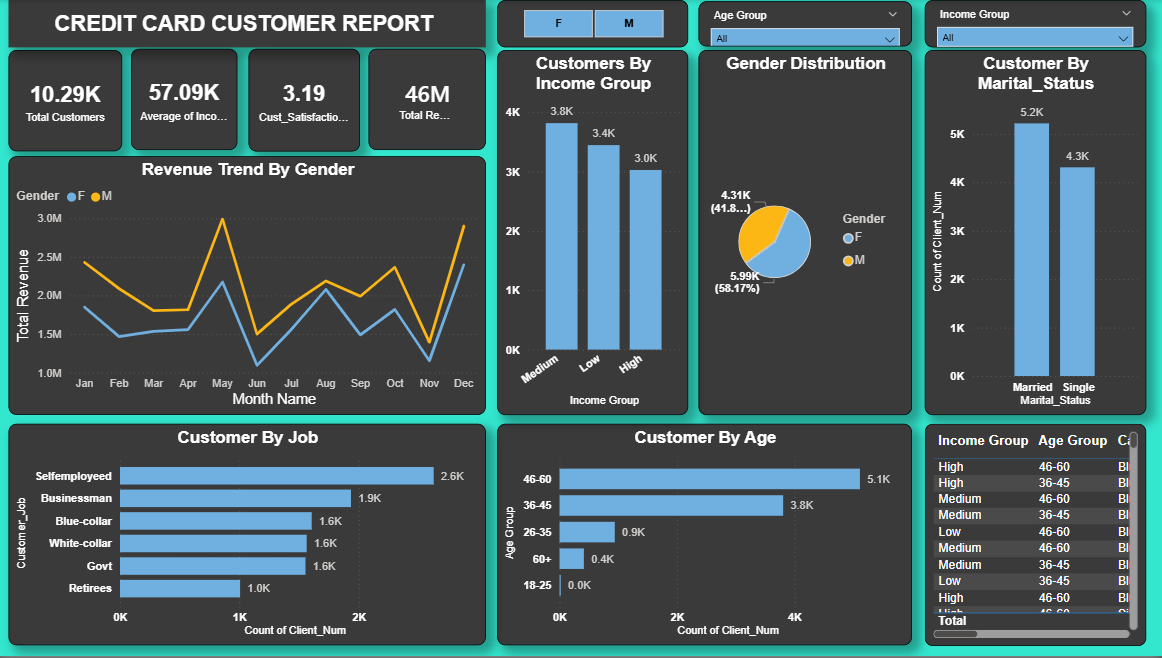

What the dashboard file says about the page in this screenshot:
{"tool":"powerbi","page":{"name":"customer report","canvas":[1280,720],"ordinal":0},"visuals":[{"type":"card","fields":{"Values":["CountNonNull(customer.Client_Num)"]},"box":[13.7,54.9,124.9,111.1],"z":0},{"type":"card","fields":{"Values":["Avg(customer.Income)"]},"box":[148.2,53.5,116.6,111.1],"z":1000},{"type":"card","fields":{"Values":["Avg(customer.Cust_Satisfaction_Score)"]},"box":[277.2,53.5,122.1,112.5],"z":2000},{"type":"slicer","fields":{"Values":["customer.Age Group"]},"box":[842.5,0,419.9,83.7],"z":3000},{"type":"slicer","fields":{"Values":["customer.Income Group"]},"box":[771.2,93.3,491.3,71.4],"z":4000},{"type":"pieChart","title":"Gender Distribution","fields":{"Category":["customer.Gender"],"Y":["CountNonNull(customer.Client_Num)"]},"box":[771.2,177,234.6,271.7],"z":5000},{"type":"clusteredBarChart","title":"Customer By Age","fields":{"Category":["customer.Age Group"],"Y":["CountNonNull(customer.Client_Num)"]},"box":[550.3,465.2,301.9,242.9],"z":6000},{"type":"clusteredColumnChart","title":"Customers By Income Group","fields":{"Category":["customer.Income Group"],"Y":["CountNonNull(customer.Client_Num)"]},"box":[550.3,83.7,209.9,365],"z":7000},{"type":"clusteredBarChart","title":"Customer By Job","fields":{"Category":["customer.Customer_Job"],"Y":["CountNonNull(customer.Client_Num)"]},"box":[13.7,465.2,524.2,242.9],"z":8000},{"type":"actionButton","title":"Go To Transition Report","box":[0,5.1,108.9,47.7],"z":9000},{"type":"columnChart","title":"Customer By Marital_Status","fields":{"Category":["customer.Marital_Status"],"Y":["CountNonNull(CreditCard.Client_Num)"]},"box":[861.8,465.2,400.7,242.9],"z":10000},{"type":"textbox","box":[0,0,537.9,52.1],"z":11000},{"type":"actionButton","box":[0,0,54.9,39.8],"z":12000},{"type":"cardVisual","fields":{"Data":["CreditCard.Total Revenue"]},"box":[408.9,53.5,129,111.1],"z":13000},{"type":"lineChart","title":"Revenue Trend By Gender","fields":{"Series":["customer.Gender"],"Y":["CreditCard.Total Revenue"],"Category":["CreditCard.Month Name"]},"box":[13.7,171.5,524.2,284],"z":14000},{"type":"pivotTable","fields":{"Rows":["customer.Income Group","customer.Age Group","CreditCard.Card_Category","customer.Gender"],"Values":["CreditCard.Total Customers","CreditCard.Total Revenue","CreditCard.Total Transactions","CreditCard.Avg Revenue per Customer"]},"box":[1016.8,177,256.6,271.7],"z":15000},{"type":"slicer","fields":{"Values":["customer.Gender"]},"box":[550.3,0,286.8,68.6],"z":16000}]}

Visuals, with their boxes in screenshot pixels (x1, y1, x2, y2), scaled from the page's 1280x720 canvas onto the 1162x658 screenshot:
card - CountNonNull(customer.Client_Num): x1=12 y1=50 x2=126 y2=152
card - Avg(customer.Income): x1=135 y1=49 x2=240 y2=150
card - Avg(customer.Cust_Satisfaction_Score): x1=252 y1=49 x2=362 y2=152
slicer - customer.Age Group: x1=765 y1=0 x2=1146 y2=76
slicer - customer.Income Group: x1=700 y1=85 x2=1146 y2=151
"Gender Distribution" pieChart: x1=700 y1=162 x2=913 y2=410
"Customer By Age" clusteredBarChart: x1=500 y1=425 x2=774 y2=647
"Customers By Income Group" clusteredColumnChart: x1=500 y1=76 x2=690 y2=410
"Customer By Job" clusteredBarChart: x1=12 y1=425 x2=488 y2=647
"Go To Transition Report" actionButton: x1=0 y1=5 x2=99 y2=48
"Customer By Marital_Status" columnChart: x1=782 y1=425 x2=1146 y2=647
textbox: x1=0 y1=0 x2=488 y2=48
actionButton: x1=0 y1=0 x2=50 y2=36
cardVisual - CreditCard.Total Revenue: x1=371 y1=49 x2=488 y2=150
"Revenue Trend By Gender" lineChart: x1=12 y1=157 x2=488 y2=416
pivotTable - customer.Income Group x customer.Age Group: x1=923 y1=162 x2=1156 y2=410
slicer - customer.Gender: x1=500 y1=0 x2=760 y2=63
